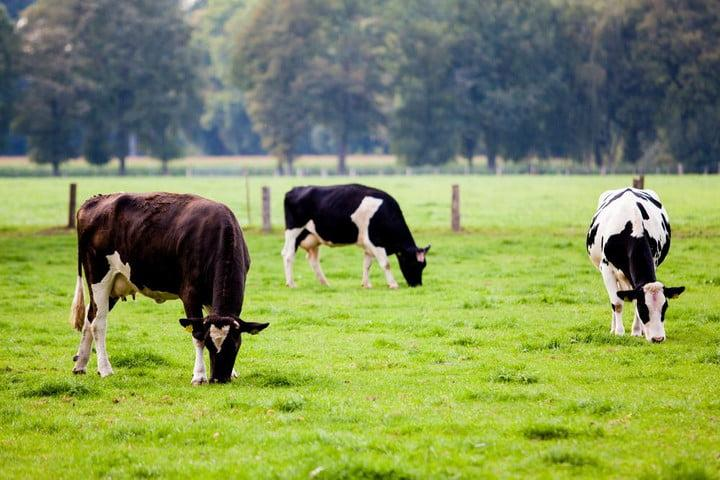cow: (71, 192, 266, 384), (586, 187, 684, 342), (282, 184, 428, 287)
